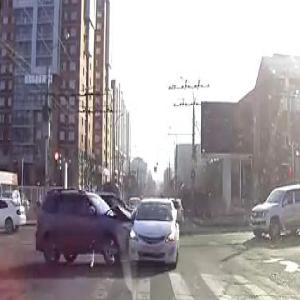superficial: (28, 174, 184, 278)
